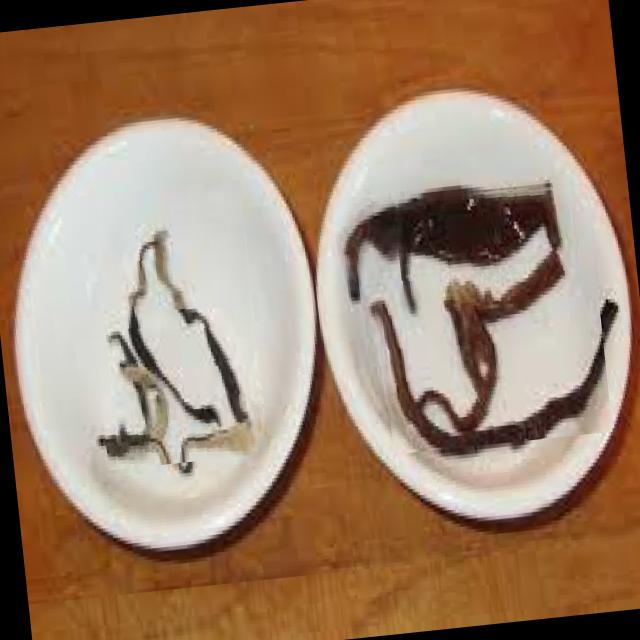Organic: (360, 175, 612, 455), (81, 194, 268, 470)
